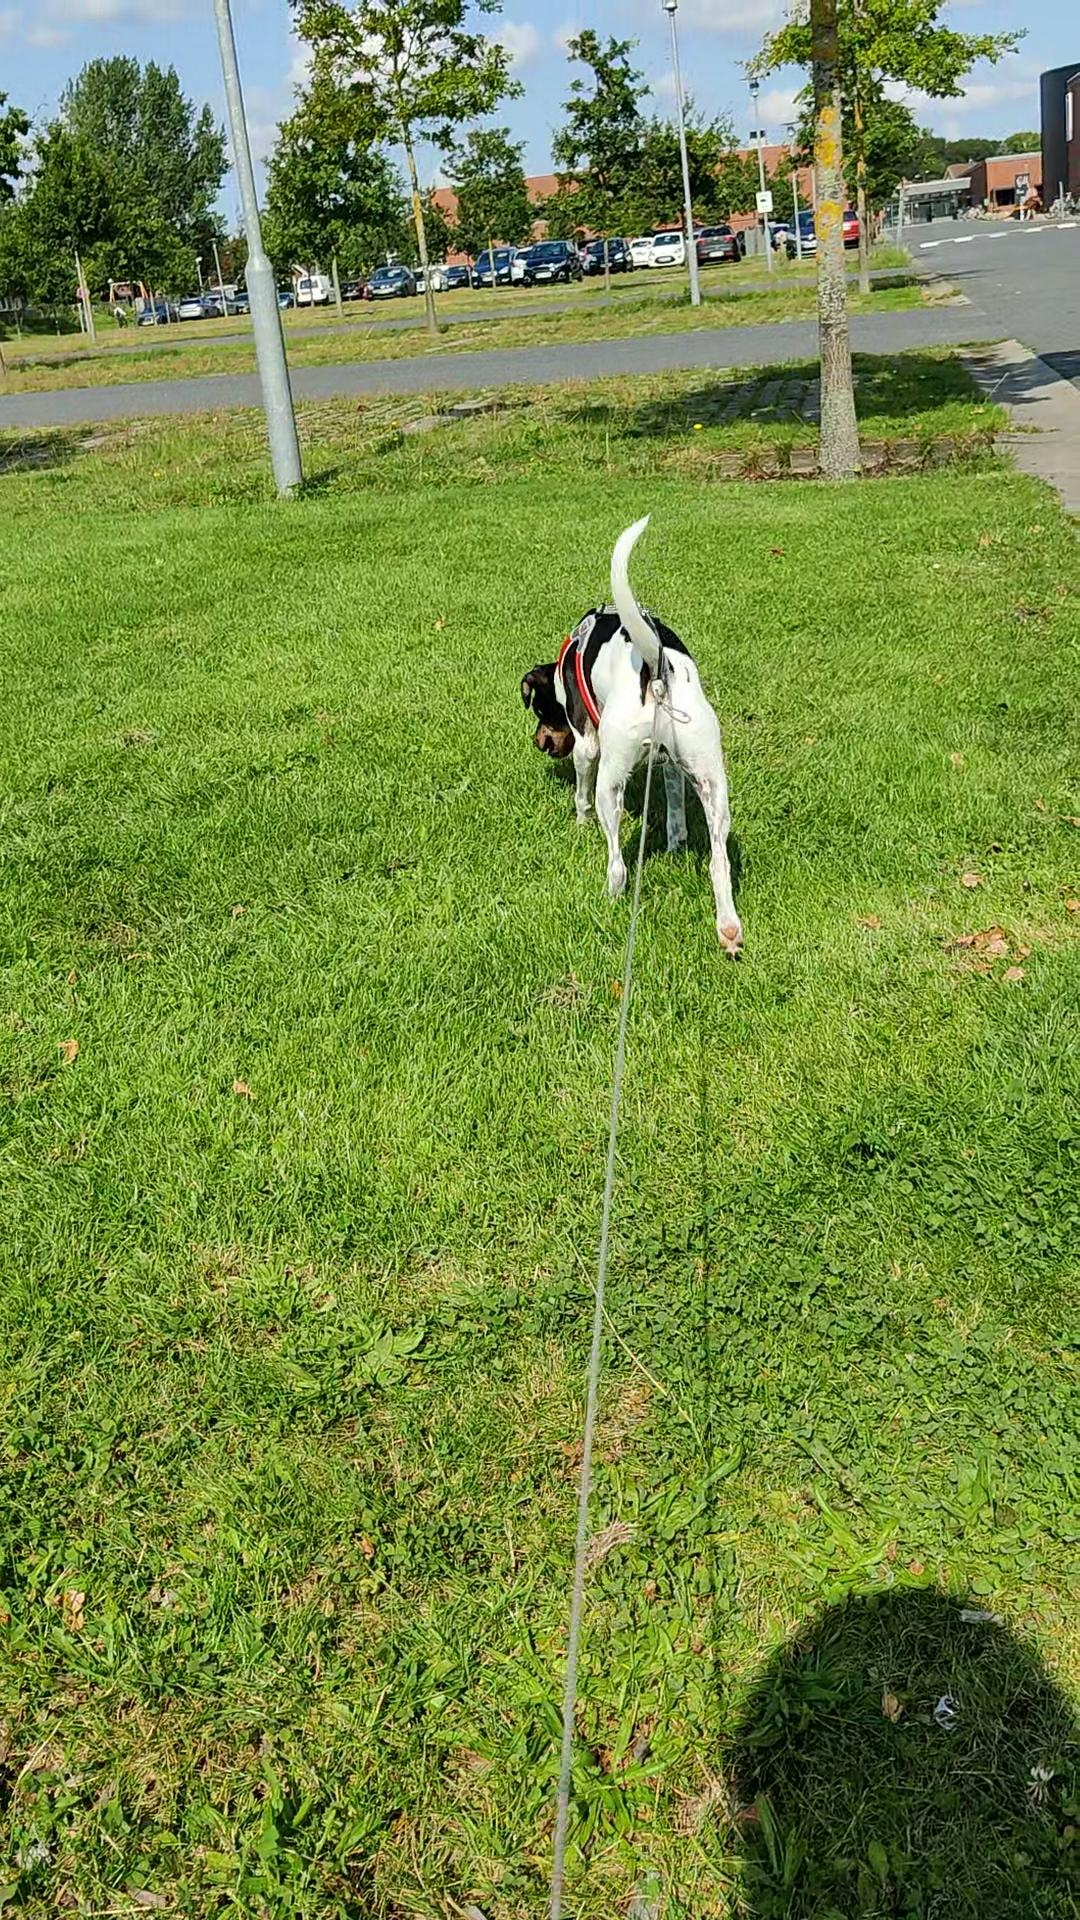Dog: (496, 502, 774, 967)
